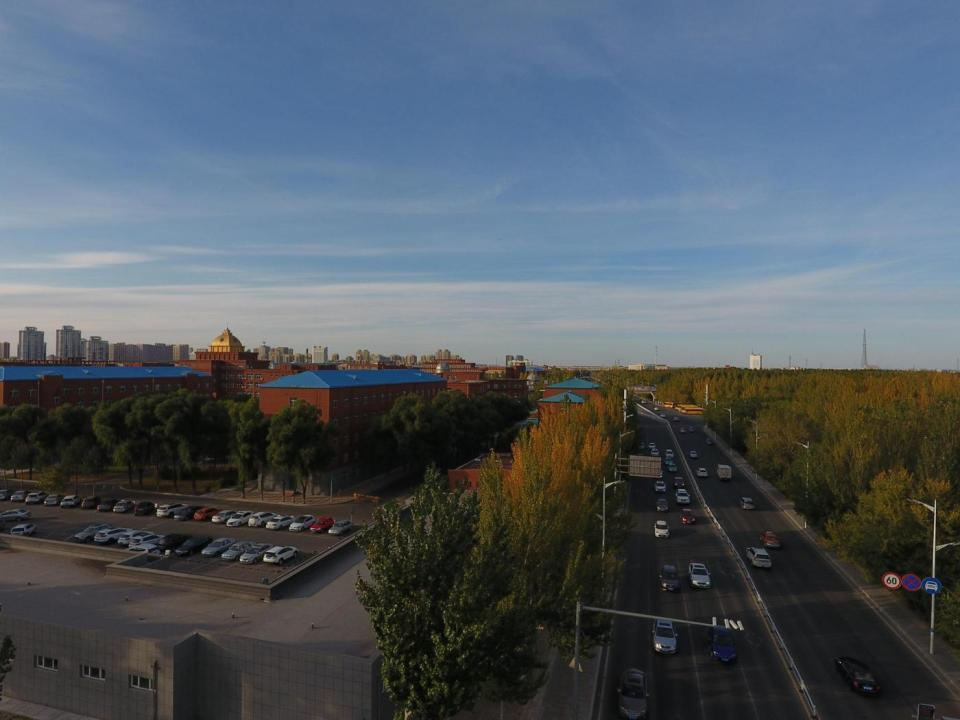bus: (662, 400, 677, 408)
car: (830, 650, 884, 696), (613, 666, 653, 720), (708, 623, 742, 665), (653, 617, 679, 656), (73, 522, 111, 544), (262, 545, 300, 566), (220, 540, 256, 561), (174, 536, 211, 556), (200, 537, 236, 557), (239, 543, 273, 564), (659, 564, 682, 593), (95, 526, 132, 544), (120, 542, 161, 558), (116, 530, 154, 547), (688, 562, 712, 588), (745, 546, 772, 568), (264, 514, 297, 531), (158, 532, 186, 552), (128, 534, 163, 550), (247, 511, 278, 528), (226, 509, 253, 528), (289, 513, 315, 532), (10, 521, 36, 538), (172, 505, 201, 520), (193, 506, 220, 522), (155, 502, 182, 518), (0, 508, 30, 522), (328, 520, 354, 536), (210, 509, 237, 524), (311, 516, 333, 534), (134, 500, 155, 518), (759, 531, 781, 548), (60, 494, 83, 509), (113, 498, 135, 513), (80, 494, 100, 510), (24, 492, 46, 506), (654, 521, 670, 538), (43, 493, 62, 507), (680, 508, 696, 524), (675, 488, 691, 504), (10, 490, 29, 503), (738, 497, 756, 510), (97, 499, 114, 512), (655, 498, 668, 512), (0, 488, 14, 500), (654, 480, 667, 492), (672, 476, 685, 488), (696, 466, 708, 478), (667, 461, 678, 471), (665, 455, 674, 466), (636, 441, 647, 450), (656, 468, 664, 478), (650, 448, 659, 456), (705, 437, 714, 445), (648, 442, 656, 449), (679, 427, 686, 434), (672, 416, 680, 422), (659, 412, 667, 418), (652, 406, 660, 411), (689, 427, 695, 432), (640, 399, 646, 404)
truck: (716, 464, 733, 481), (689, 451, 698, 458)
van: (664, 448, 673, 456)
